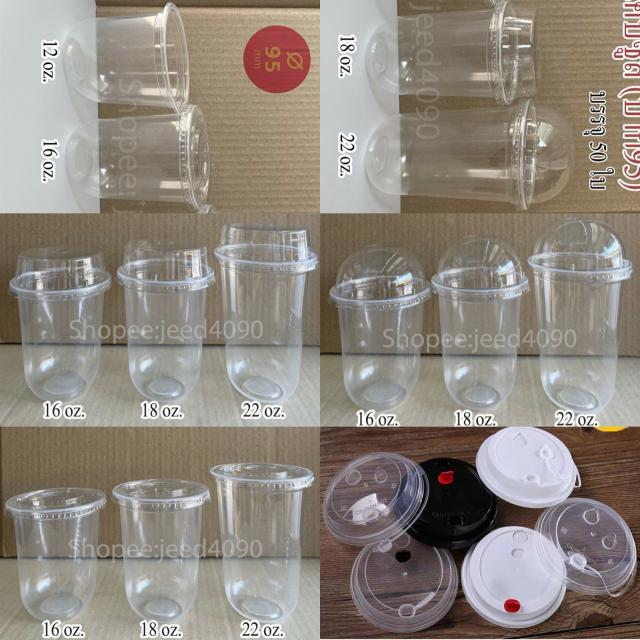Single-Use-Plastic: (365, 99, 574, 210), (528, 218, 634, 412), (214, 224, 319, 402), (367, 0, 539, 105), (329, 245, 432, 410), (432, 235, 529, 410), (210, 462, 314, 623), (116, 239, 215, 402), (9, 246, 111, 401), (65, 105, 210, 211), (111, 479, 210, 622), (63, 4, 189, 112), (5, 488, 106, 621), (350, 532, 458, 632), (462, 526, 565, 628), (535, 498, 637, 596), (323, 452, 429, 545), (477, 426, 580, 508), (408, 458, 497, 548)
